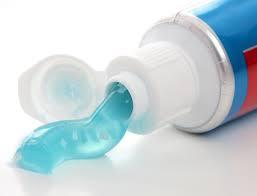toothpaste: (82, 4, 257, 129)
